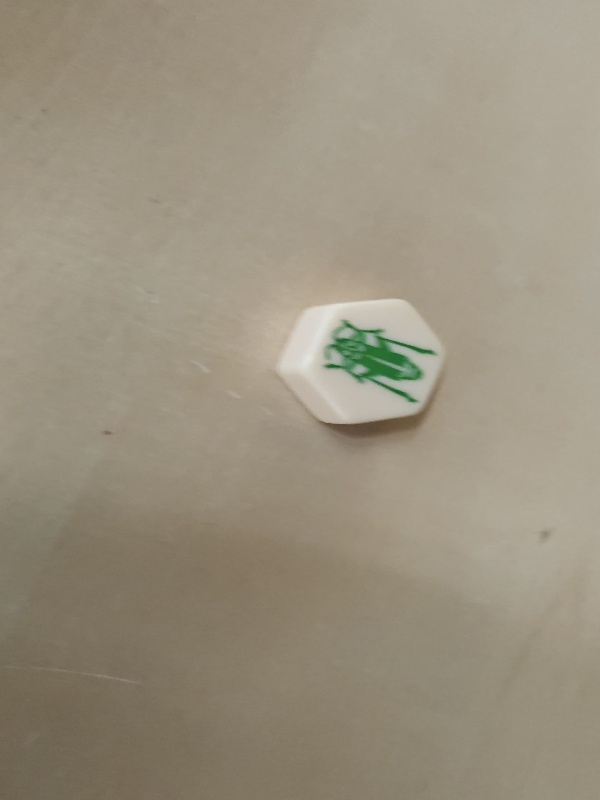white_grasshopper: (269, 293, 447, 438)
